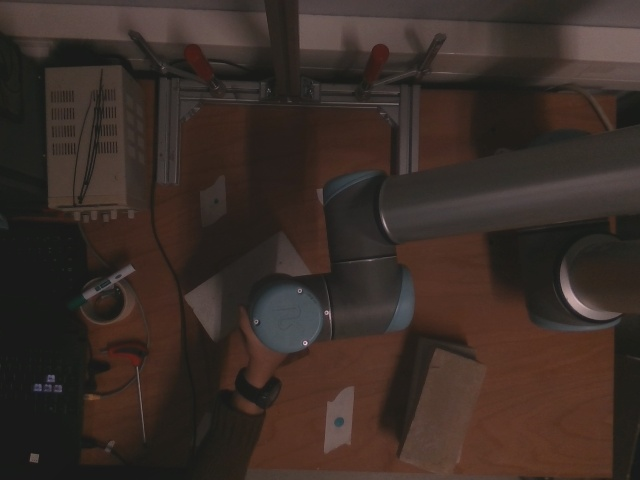brick: (400, 351, 488, 476)
